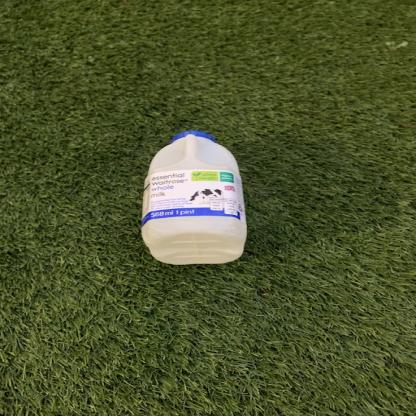trash: (140, 127, 252, 267)
